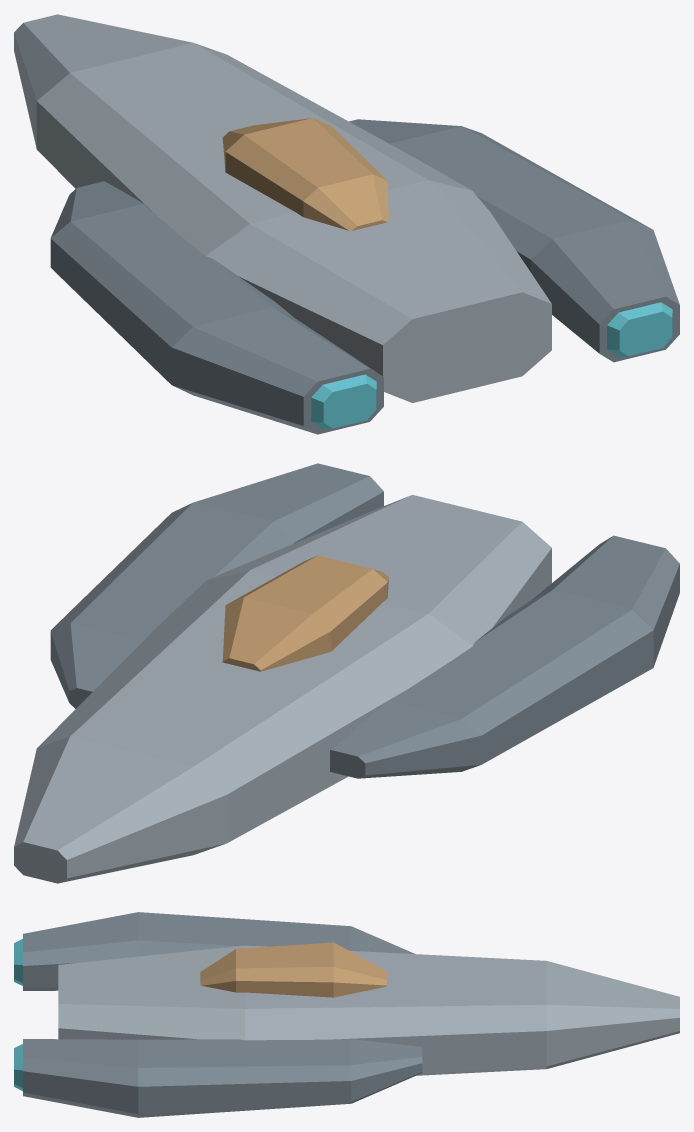
The model's file is EscortFrigate.gltf.
The picture shows the model from 3 angles, top to bottom: view 1: azimuth 30°, elevation 25°; view 2: azimuth 150°, elevation 25°; view 3: azimuth 270°, elevation 25°; orthographic projection. The views are drawn at different scales.
Parts seen in each view (by area): view 1: Mariner escort frigate; view 2: Mariner escort frigate; view 3: Mariner escort frigate.
Part boxes in pixels (x1=…): Mariner escort frigate: x1=14, y1=14, x2=679, y2=434; Mariner escort frigate: x1=14, y1=463, x2=679, y2=883; Mariner escort frigate: x1=14, y1=912, x2=679, y2=1117.
Bounding box in the file's own units: 45.6 × 12.2 × 75.
